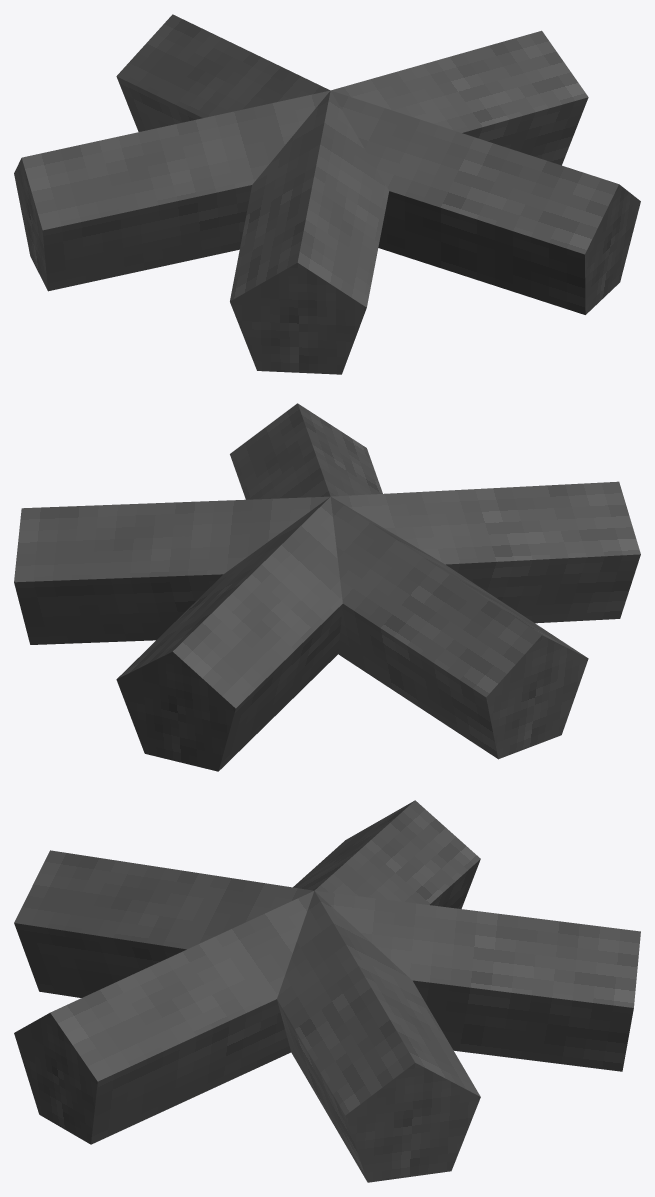
The model's file is campfire.glb.
3 views of the same model, one above another, from view 1: azimuth 30°, elevation 25°; view 2: azimuth 150°, elevation 25°; view 3: azimuth 270°, elevation 25° (orthographic). The views are drawn at different scales.
Parts seen in each view (by area): view 1: campfire; view 2: campfire; view 3: campfire.
Boxes of the visible parts, x1,y1,x2,y2 form: campfire: (14,14,640,374); campfire: (14,403,640,771); campfire: (14,800,640,1182).
Size of the model in its own units: 1.3 by 0.3588 by 1.26.
1 material, 1 textured.
